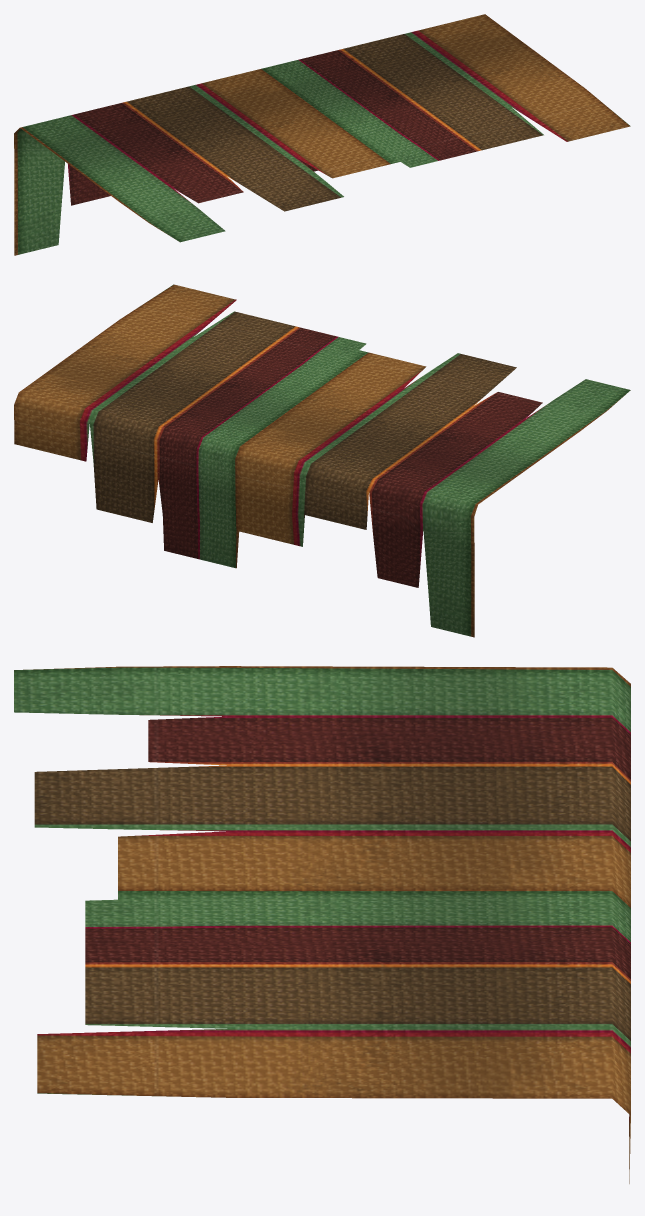
The model's file is M_Home_Garden_TableCloth_01.fbx.
3 renders of one model, top to bottom at view 1: azimuth 30°, elevation 25°; view 2: azimuth 150°, elevation 25°; view 3: azimuth 270°, elevation 25°, orthographic. The views are drawn at different scales.
Parts seen in each view (by area): view 1: M_Home_Garden_TableCloth_01; view 2: M_Home_Garden_TableCloth_01; view 3: M_Home_Garden_TableCloth_01.
Boxes of the visible parts, box(x1,y1,x2,y2) form: M_Home_Garden_TableCloth_01: box(14, 14, 630, 255); M_Home_Garden_TableCloth_01: box(14, 284, 630, 637); M_Home_Garden_TableCloth_01: box(14, 666, 630, 1183).
Bounding box in the file's own units: 226 × 60.77 × 136.
